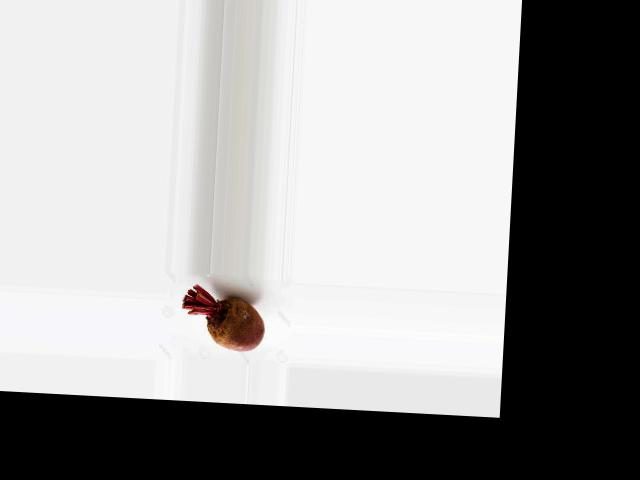beet: (180, 283, 267, 352)
